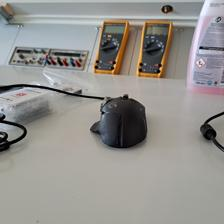mouse: (88, 94, 149, 149)
